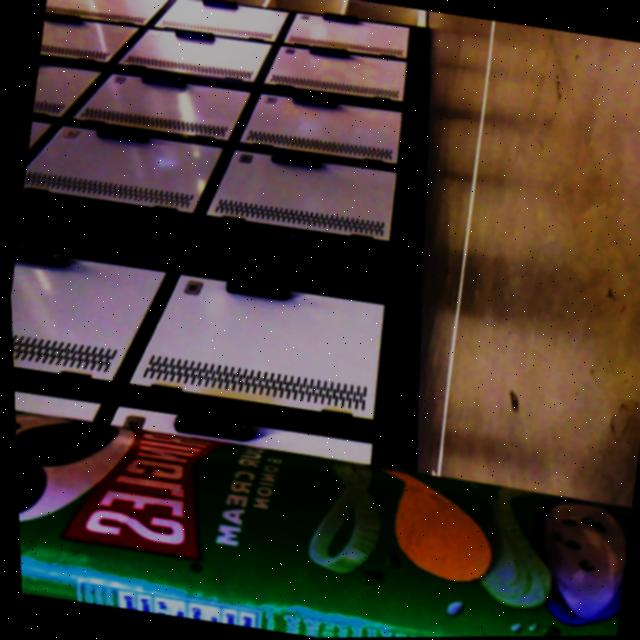greenpringles: (11, 376, 637, 640)
